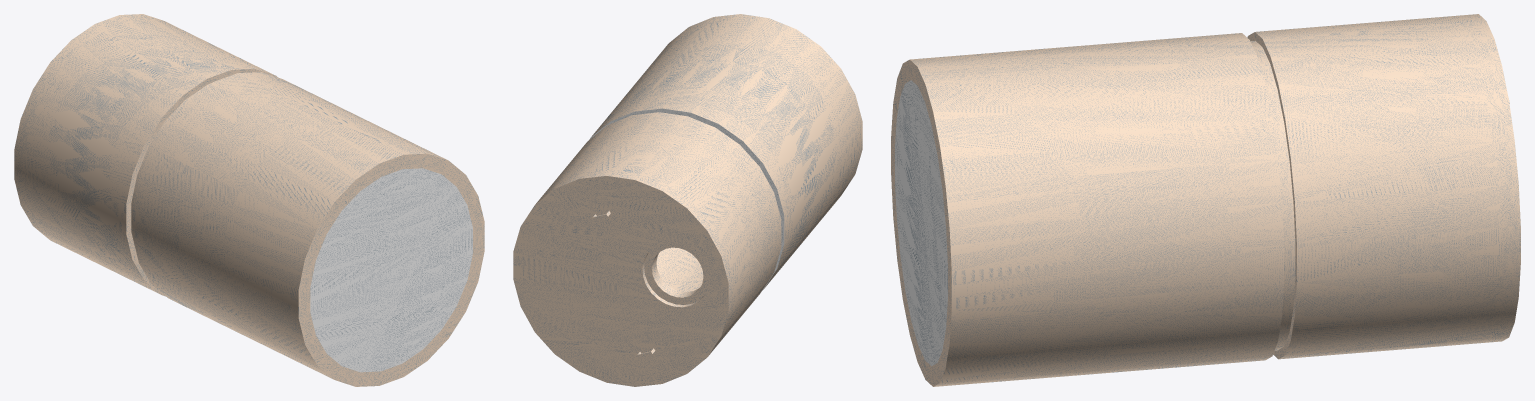
File: Manhole.dae
3 views of the same model, side by side, from view 1: azimuth 30°, elevation 25°; view 2: azimuth 150°, elevation 25°; view 3: azimuth 270°, elevation 25° (orthographic). The views are drawn at different scales.
Parts seen in each view (by area): view 1: SketchUp (×4); view 2: SketchUp (×6); view 3: SketchUp (×4).
Part boxes in pixels (left/top/right/bottom): SketchUp (×4): left=14, top=14, right=484, bottom=386; SketchUp (×6): left=513, top=14, right=862, bottom=386; SketchUp (×4): left=891, top=14, right=1520, bottom=386.
Size of the model in its own units: 269 by 395 by 205.
